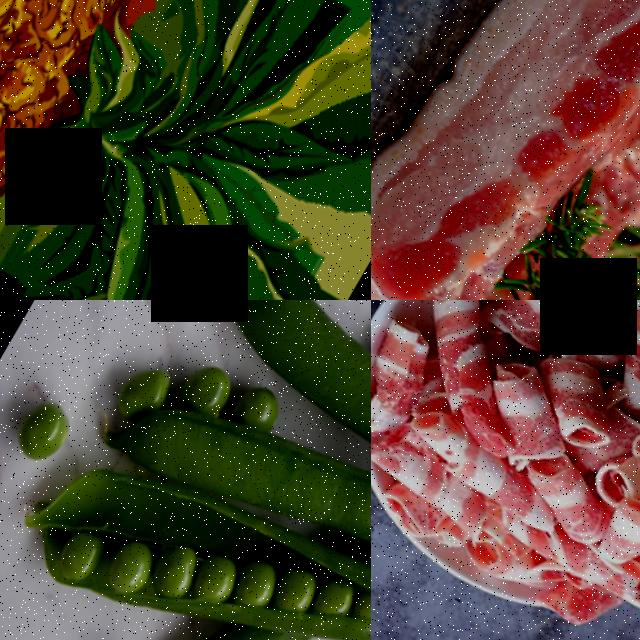peas: (102, 310, 305, 492), (48, 477, 249, 640), (224, 521, 371, 640)
pineapple: (0, 0, 158, 282)
pork belly: (371, 0, 640, 300), (371, 387, 573, 569), (373, 300, 575, 454), (578, 300, 640, 433), (583, 465, 640, 582)
